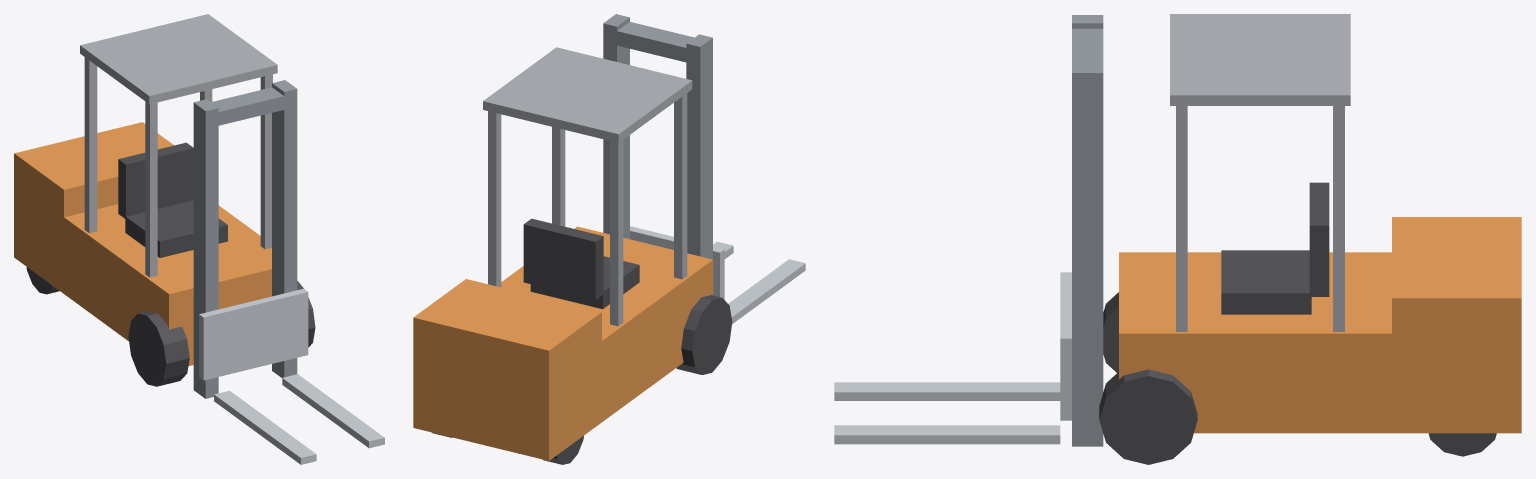
File: carretilla_contrapesada.glb
The picture shows the model from 3 angles, left to right: view 1: azimuth 30°, elevation 25°; view 2: azimuth 150°, elevation 25°; view 3: azimuth 270°, elevation 25°; orthographic projection. The views are drawn at different scales.
Visible parts, largest first — view 1: carretilla_contrapesada; view 2: carretilla_contrapesada; view 3: carretilla_contrapesada.
Part boxes in pixels (x1,y1,x2,y2): carretilla_contrapesada: (14,14,384,464); carretilla_contrapesada: (413,14,805,464); carretilla_contrapesada: (834,14,1521,464).
Bounding box in the file's own units: 1.14 × 2.1 × 3.5.
